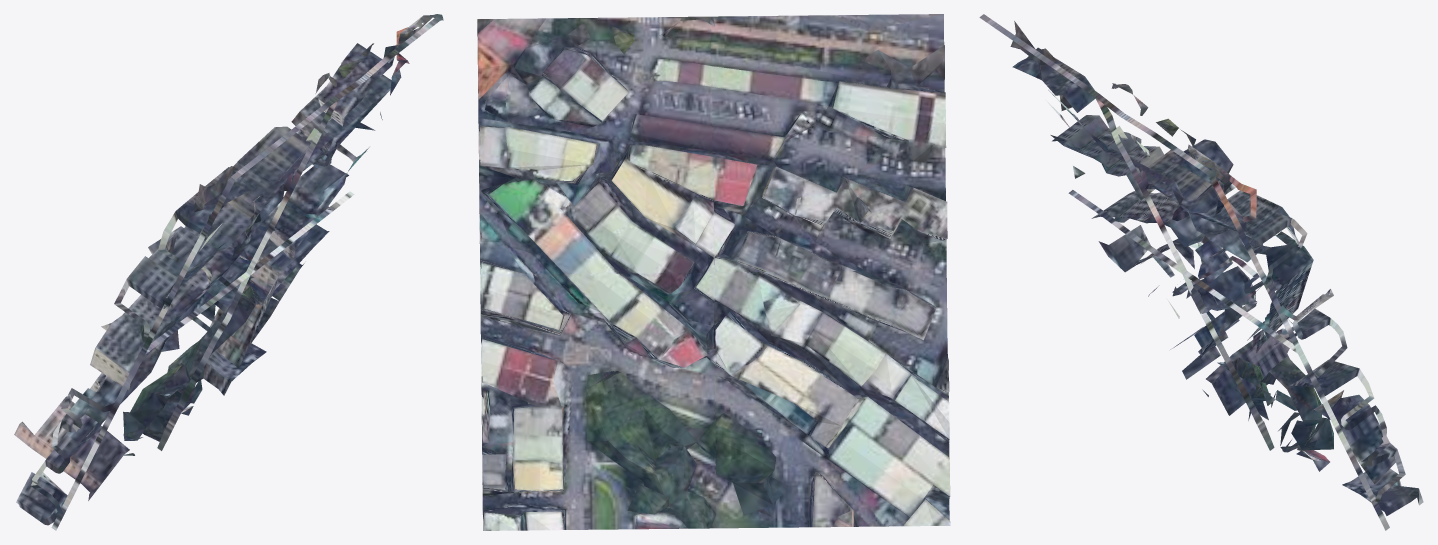
3 renders of one model, left to right at view 1: azimuth 30°, elevation 25°; view 2: azimuth 150°, elevation 25°; view 3: azimuth 270°, elevation 25°, orthographic. The views are drawn at different scales.
Size of the model in its own units: 160 by 142 by 139.
1 material, 1 textured.
